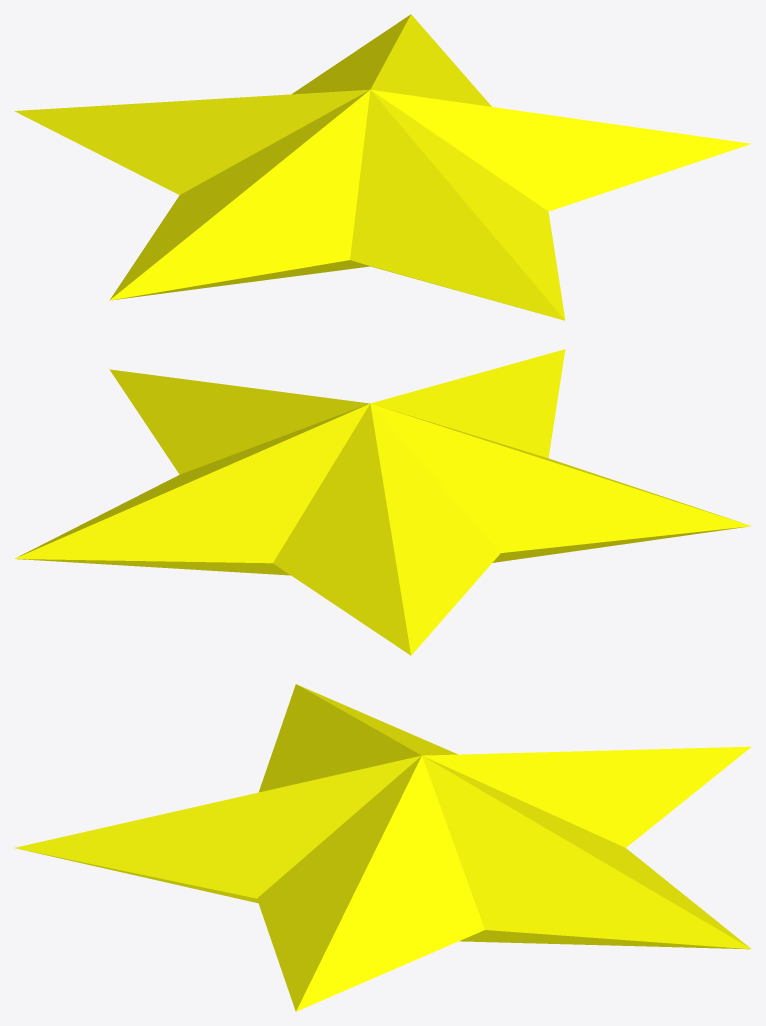
File: star.glb
The picture shows the model from 3 angles, top to bottom: view 1: azimuth 30°, elevation 25°; view 2: azimuth 150°, elevation 25°; view 3: azimuth 270°, elevation 25°; orthographic projection. The views are drawn at different scales.
Visible parts, largest first — view 1: 円, 円.001; view 2: 円, 円.001; view 3: 円, 円.001.
Boxes of the visible parts, <box> form: 円: <box>14,14,751,320</box>; 円.001: <box>112,260,529,310</box>; 円: <box>14,349,751,655</box>; 円.001: <box>17,526,749,575</box>; 円: <box>15,684,751,1011</box>; 円.001: <box>19,849,749,949</box>.
Bounding box in the file's own units: 0.3805 × 0.1 × 0.3618.
